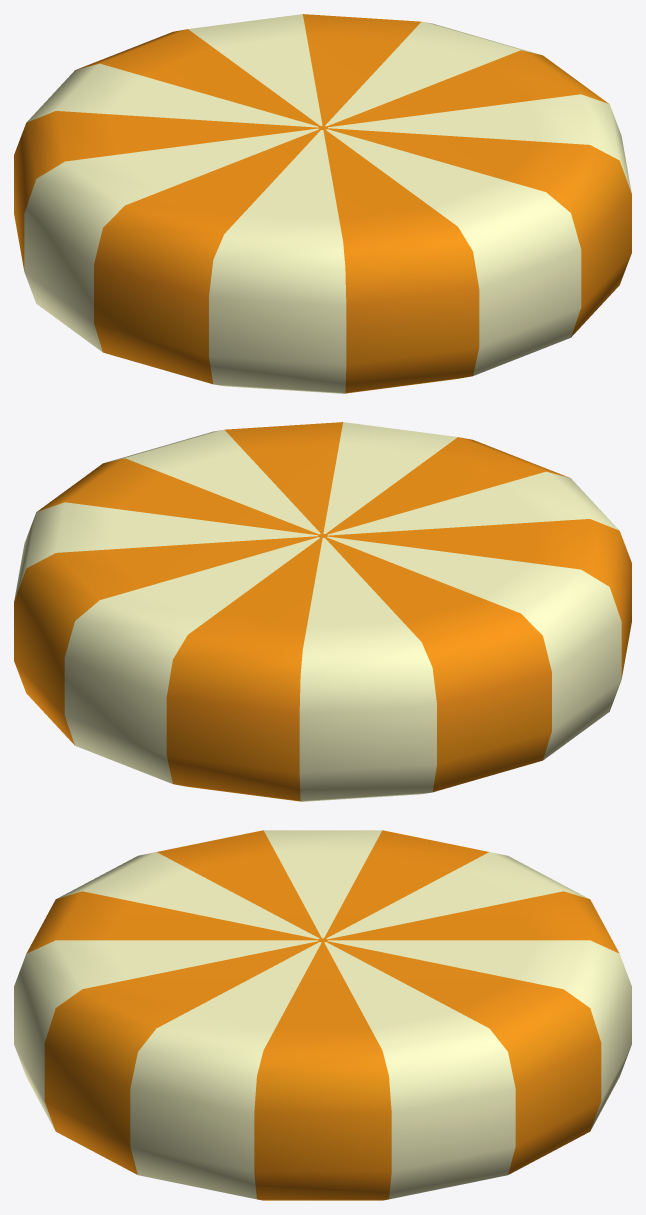
The model's file is candy_hard_11.fbx.
3 views of the same model, one above another, from view 1: azimuth 30°, elevation 25°; view 2: azimuth 150°, elevation 25°; view 3: azimuth 270°, elevation 25° (orthographic).
Parts seen in each view (by area): view 1: c_h_11; view 2: c_h_11; view 3: c_h_11.
Part boxes in pixels (x1,y1,x2,y2): c_h_11: (14, 14, 631, 393); c_h_11: (14, 422, 631, 801); c_h_11: (14, 830, 631, 1200).
Size of the model in its own units: 156 by 42.99 by 160.
